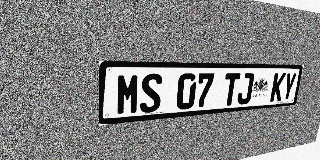0: (176, 73, 197, 110)
7: (194, 73, 215, 109)
J: (236, 73, 255, 105)
K: (270, 73, 286, 102)
M: (116, 74, 140, 115)
S: (139, 73, 163, 113)
T: (222, 73, 241, 106)
Y: (281, 73, 297, 101)
